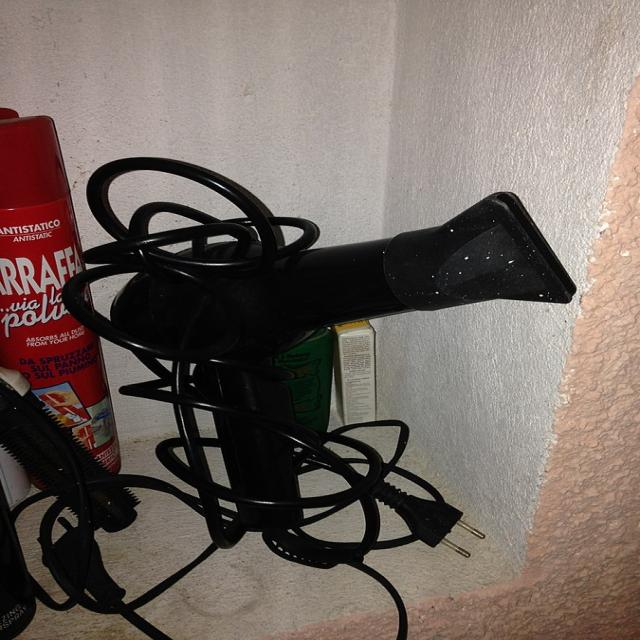dryer: (108, 186, 581, 533)
